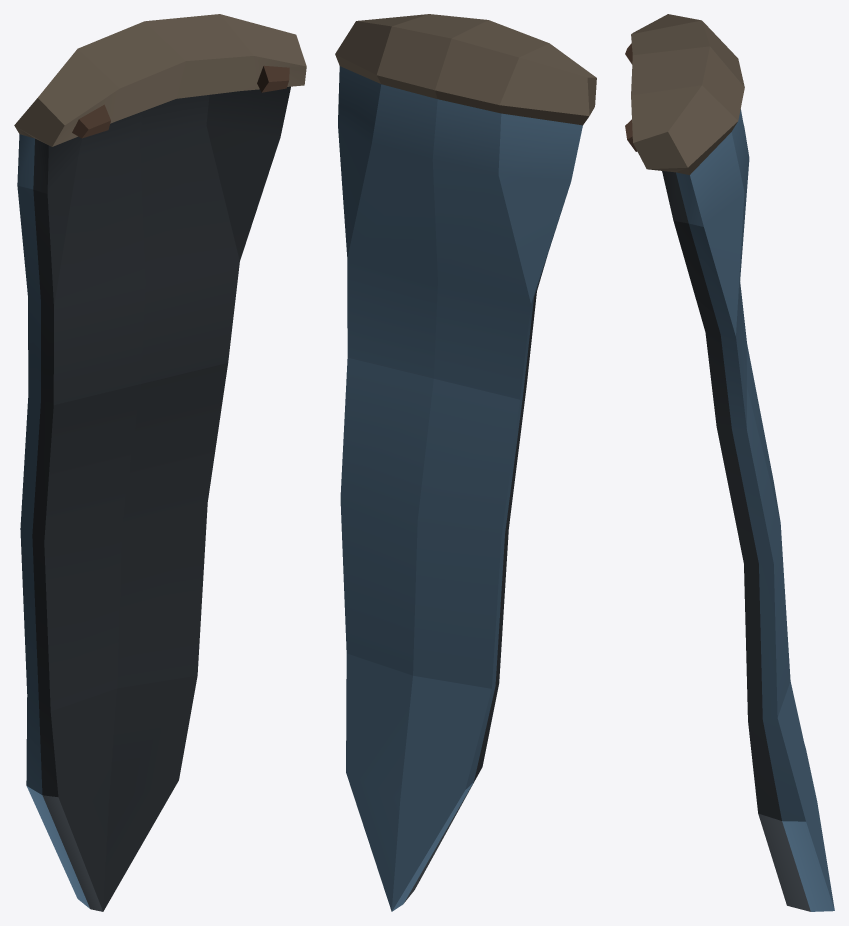
Rendered from Chr_BackAttachment_08_Static.fbx.
3 views of the same model, side by side, from view 1: azimuth 30°, elevation 25°; view 2: azimuth 150°, elevation 25°; view 3: azimuth 270°, elevation 25° (orthographic). The views are drawn at different scales.
Visible parts, largest first — view 1: Chr_BackAttachment_08_Static; view 2: Chr_BackAttachment_08_Static; view 3: Chr_BackAttachment_08_Static.
Part boxes in pixels (<box>): Chr_BackAttachment_08_Static: <box>14,14,306,911</box>; Chr_BackAttachment_08_Static: <box>335,14,596,911</box>; Chr_BackAttachment_08_Static: <box>625,14,834,911</box>.
Size of the model in its own units: 0.4344 by 1.35 by 0.2975.
